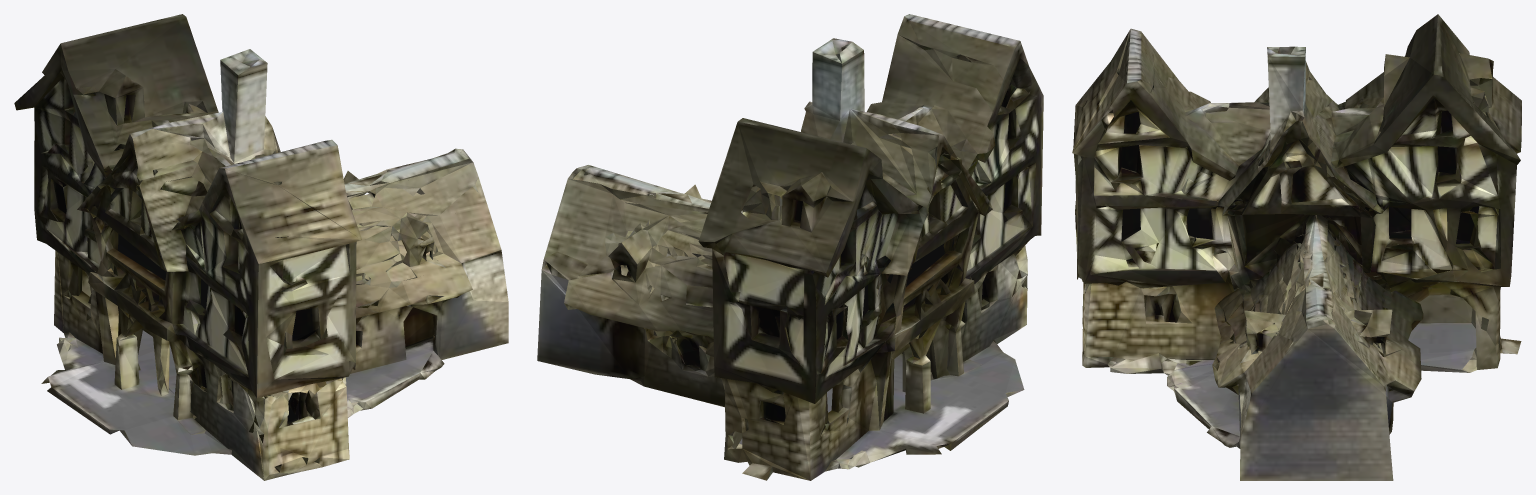
File: war_tavern_ruin_01.glb
3 views of the same model, side by side, from view 1: azimuth 30°, elevation 25°; view 2: azimuth 150°, elevation 25°; view 3: azimuth 270°, elevation 25° (orthographic). The views are drawn at different scales.
Parts seen in each view (by area): view 1: geometry_0; view 2: geometry_0; view 3: geometry_0.
Boxes of the visible parts, bbox=[...] form: geometry_0: bbox=[14, 14, 508, 480]; geometry_0: bbox=[537, 14, 1043, 480]; geometry_0: bbox=[1072, 14, 1521, 480].
Size of the model in its own units: 0.9856 by 0.782 by 0.9974.
Materials: 1 (1 with a texture image).
